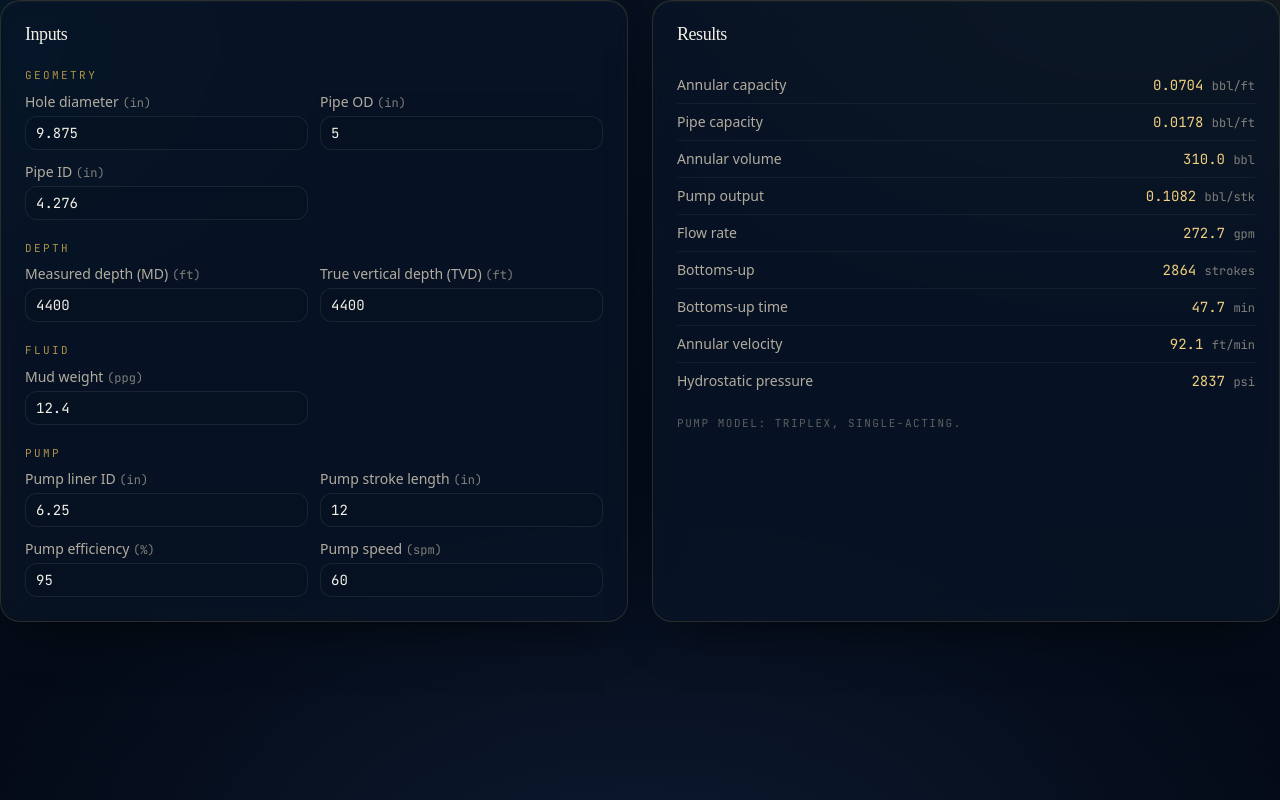
Test: HydraulicsPanel › surfaces a warning when hole diameter does not exceed pipe OD
Step 1. Replace the text in the number field labelled "Hole diameter (in)" with "4" → (166,132), box [25, 116, 308, 150]
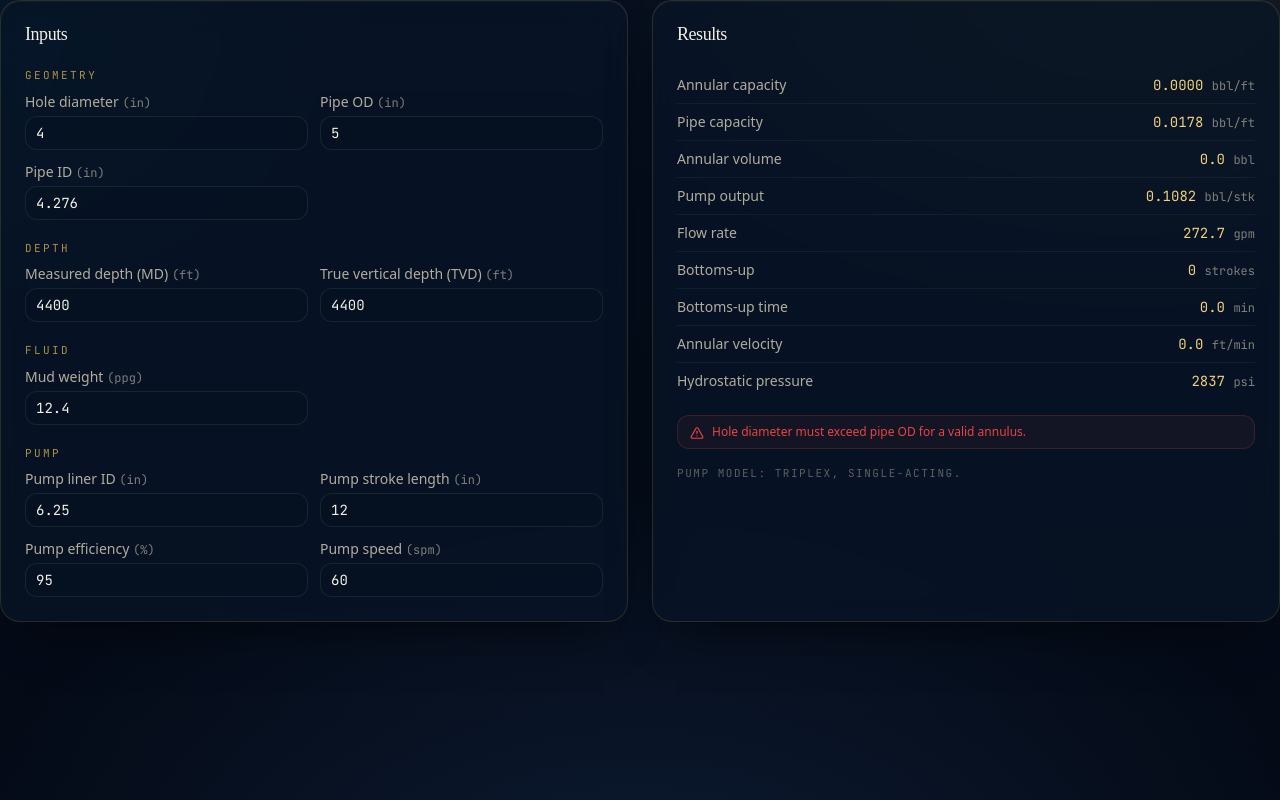
Expected: the text "Hole diameter must exceed pipe OD for a valid annulus." is shown, [712, 424, 1026, 440]
